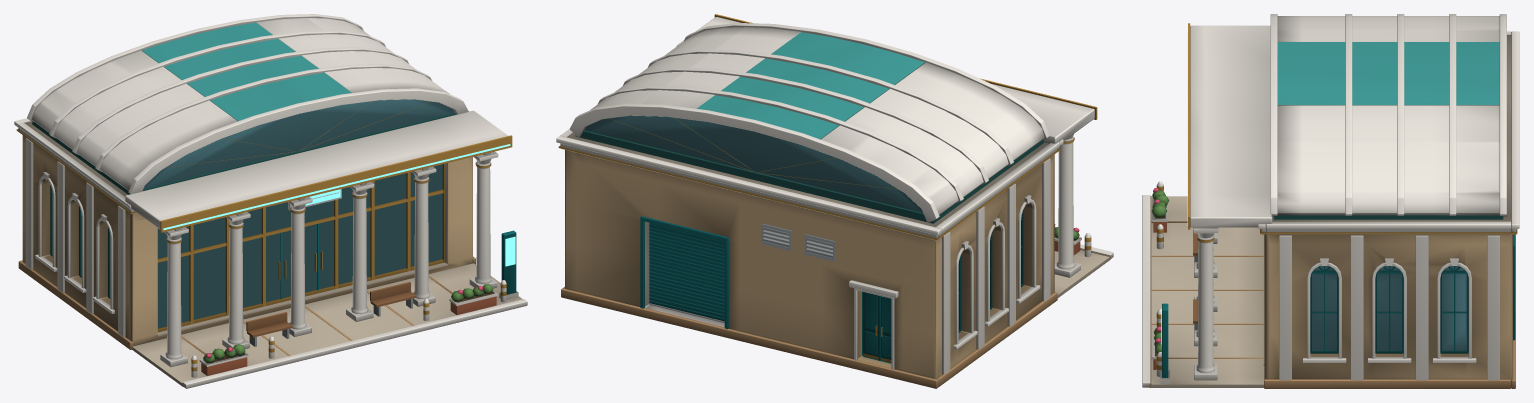
Rendered from bldg_terminal.fbx.
The picture shows the model from 3 angles, left to right: view 1: azimuth 30°, elevation 25°; view 2: azimuth 150°, elevation 25°; view 3: azimuth 270°, elevation 25°; orthographic projection. The views are drawn at different scales.
Parts seen in each view (by area): view 1: bldg_terminal; view 2: bldg_terminal; view 3: bldg_terminal.
Part boxes in pixels (x1,y1,x2,y2): bldg_terminal: (14,14,527,388); bldg_terminal: (556,14,1113,388); bldg_terminal: (1142,14,1519,388).
Size of the model in its own units: 14.1 by 7.68 by 11.6.
